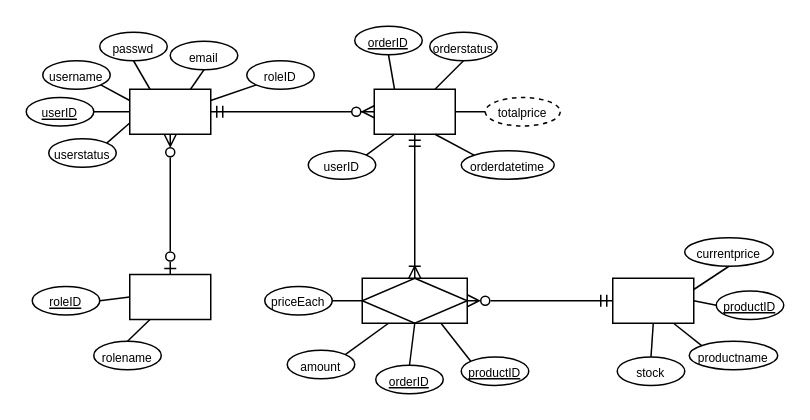
This 810x420 diagram has some shape labels left out. Each missing label, with the centre of its shape:
"orderdetail" belongs at [414,300].
"orders" belongs at [414,111].
"products" belongs at [652,300].
"roles" belongs at [169,296].
"users" belongs at [169,111].
